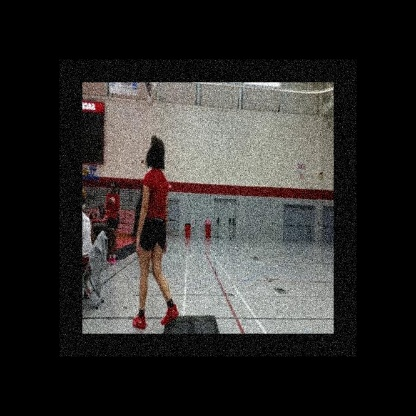lateral_flexion_right: (132, 130, 181, 334)
stance_width_broad: (132, 163, 181, 333)
